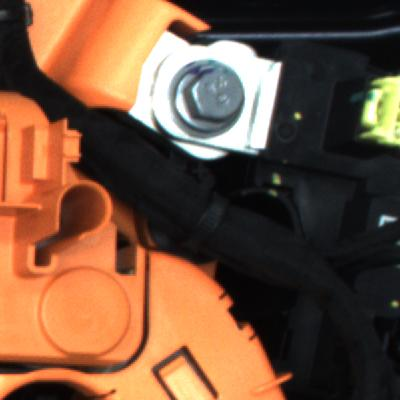nut_b: (166, 58, 248, 134)
